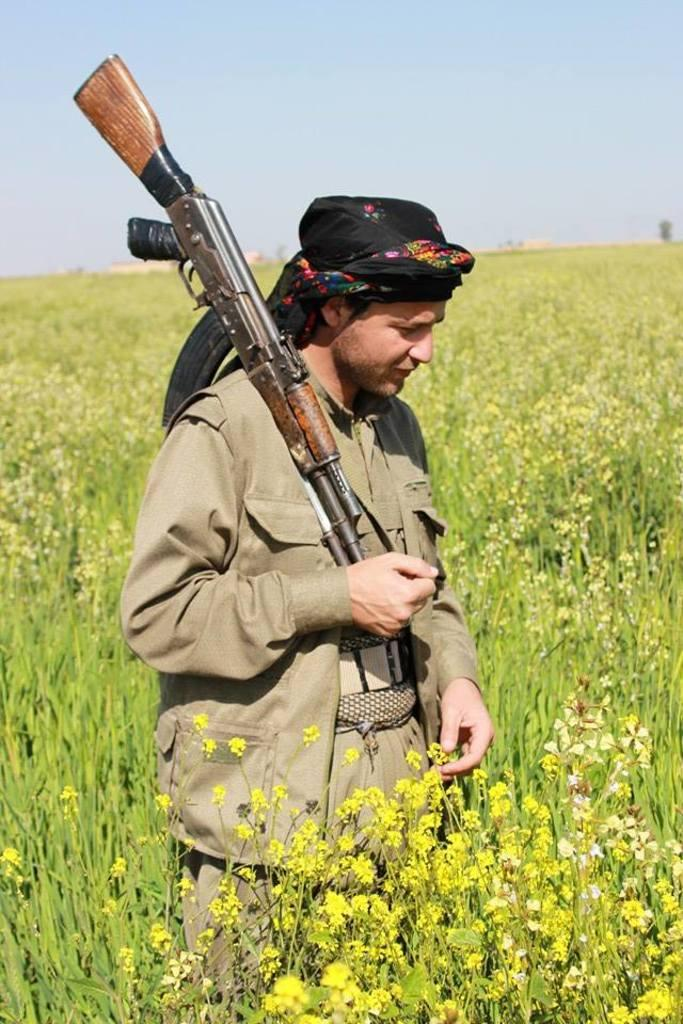Rifle: (72, 43, 397, 647)
